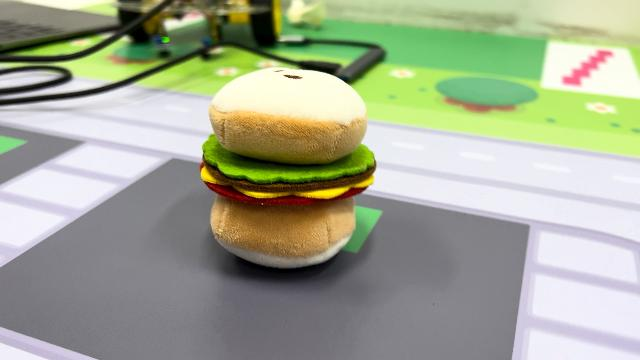sandwich: (198, 64, 378, 270)
